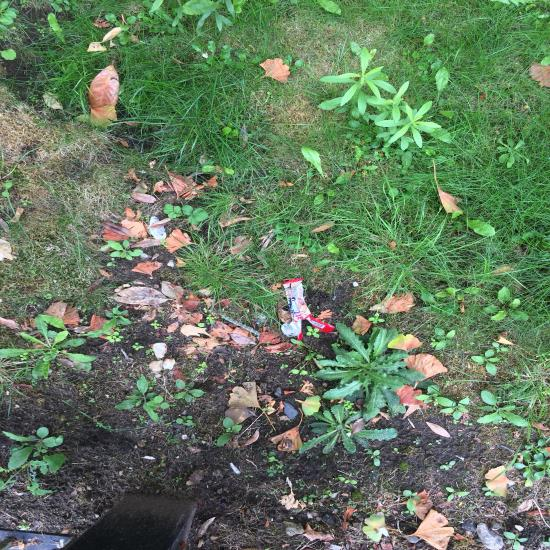Other plastic: (281, 277, 335, 341)
Plastic film: (221, 315, 261, 336)
